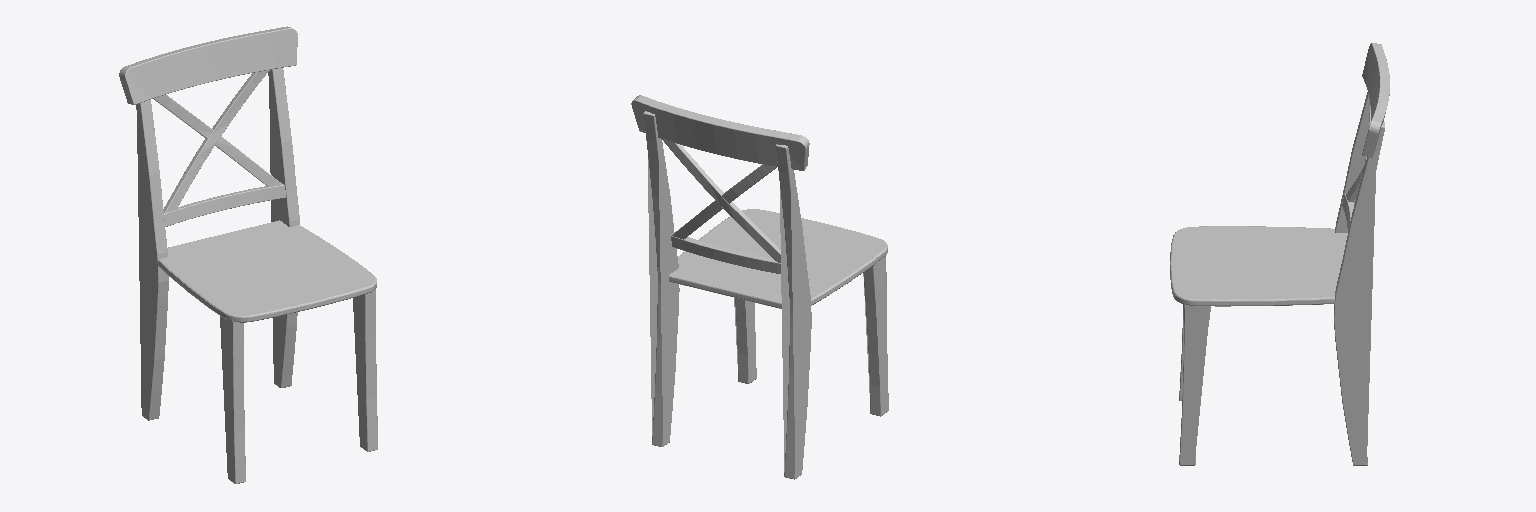
File: chair.obj
The picture shows the model from 3 angles: view 1: azimuth 30°, elevation 25°; view 2: azimuth 150°, elevation 25°; view 3: azimuth 270°, elevation 25°; orthographic projection.
Parts seen in each view (by area): view 1: Chair_Cube.038; view 2: Chair_Cube.038; view 3: Chair_Cube.038.
Part boxes in pixels (bbox=[...]): Chair_Cube.038: bbox=[119, 26, 377, 483]; Chair_Cube.038: bbox=[631, 95, 888, 479]; Chair_Cube.038: bbox=[1170, 43, 1389, 465].
Size of the model in its own units: 3.83 by 7.32 by 4.18.